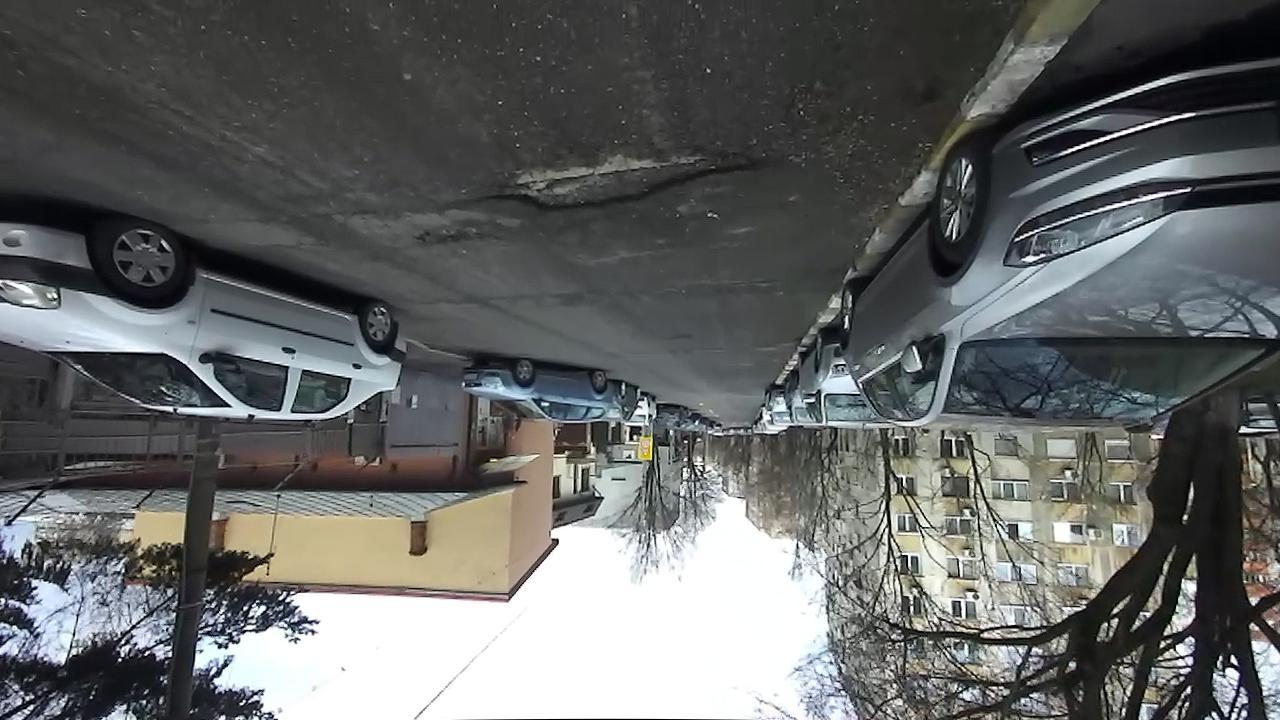pothole: (484, 140, 773, 217), (407, 222, 499, 253)
